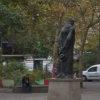Statue: (50, 13, 88, 82)
